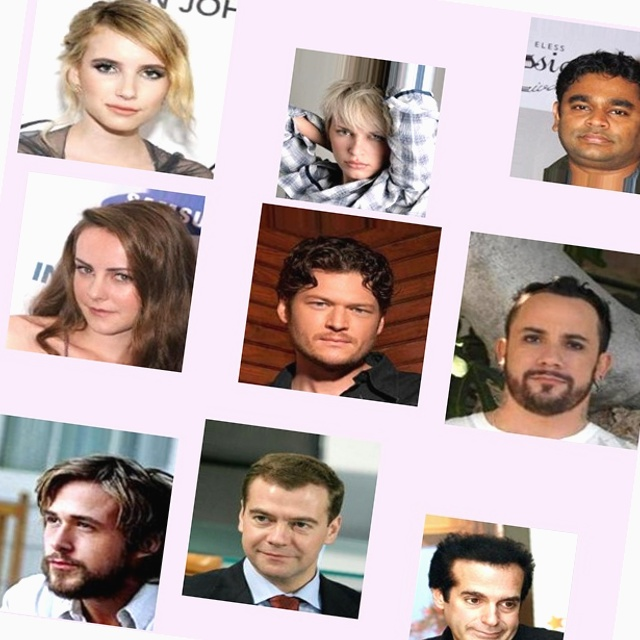celeb_1212: (233, 198, 437, 402)
celeb_2336: (474, 458, 640, 630)
celeb_2619: (236, 422, 437, 622)
celeb_2970: (0, 17, 179, 240)
celeb_3: (442, 168, 640, 387)
celeb_4422: (0, 231, 201, 432)
celeb_7: (443, 0, 624, 131)
celeb_797: (224, 44, 394, 214)
celeb_8335: (23, 472, 242, 640)
